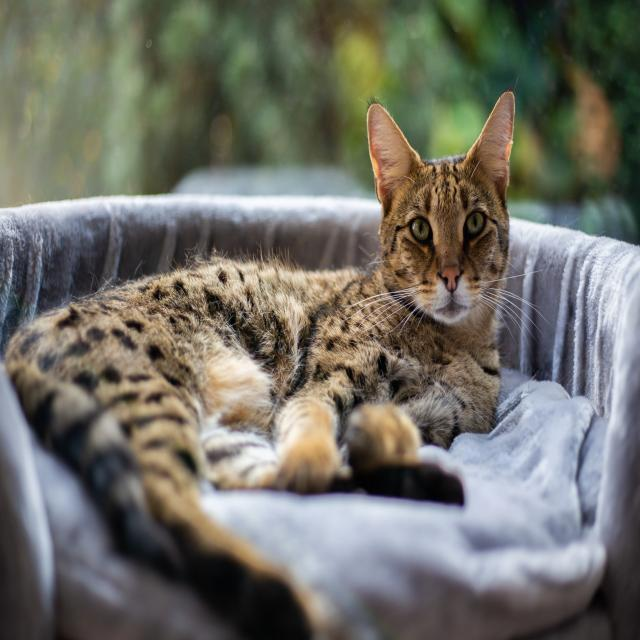Savannah: (1, 87, 518, 640)
